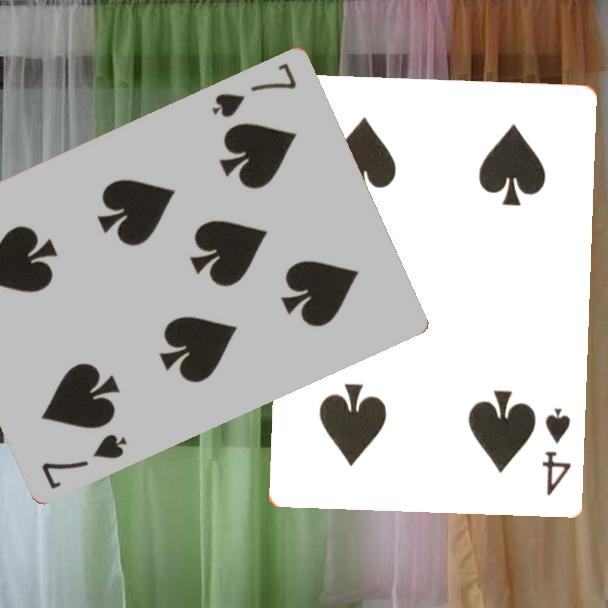s04: (537, 404, 574, 498)
s07: (38, 430, 131, 492), (208, 59, 300, 120)
